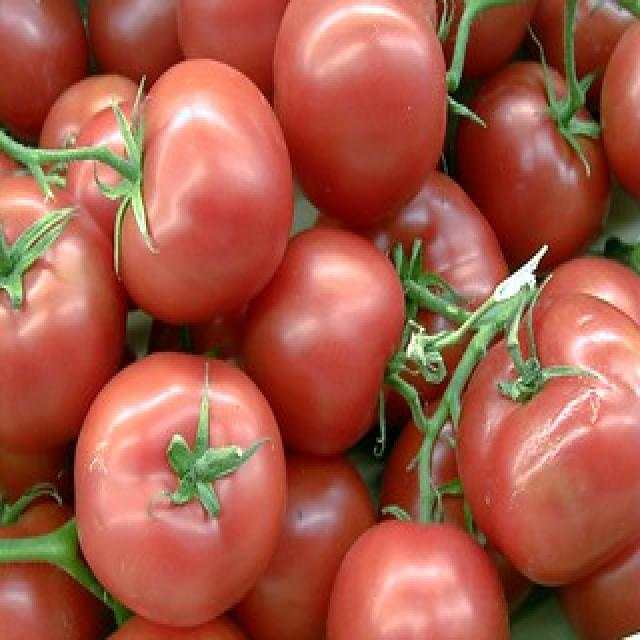Tomato: (74, 347, 289, 623), (454, 287, 640, 588), (99, 54, 294, 331), (269, 0, 450, 229), (249, 224, 409, 462), (0, 170, 128, 458)
